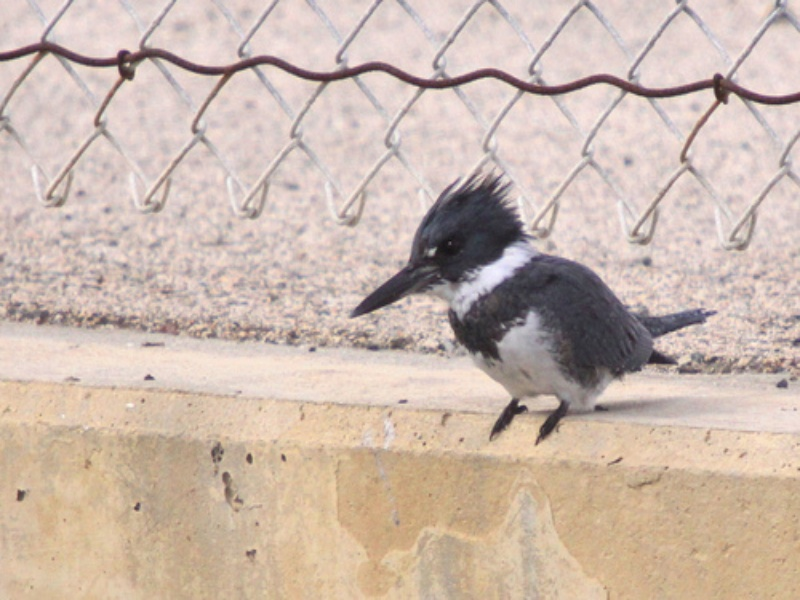kingfisher: (341, 166, 724, 451)
